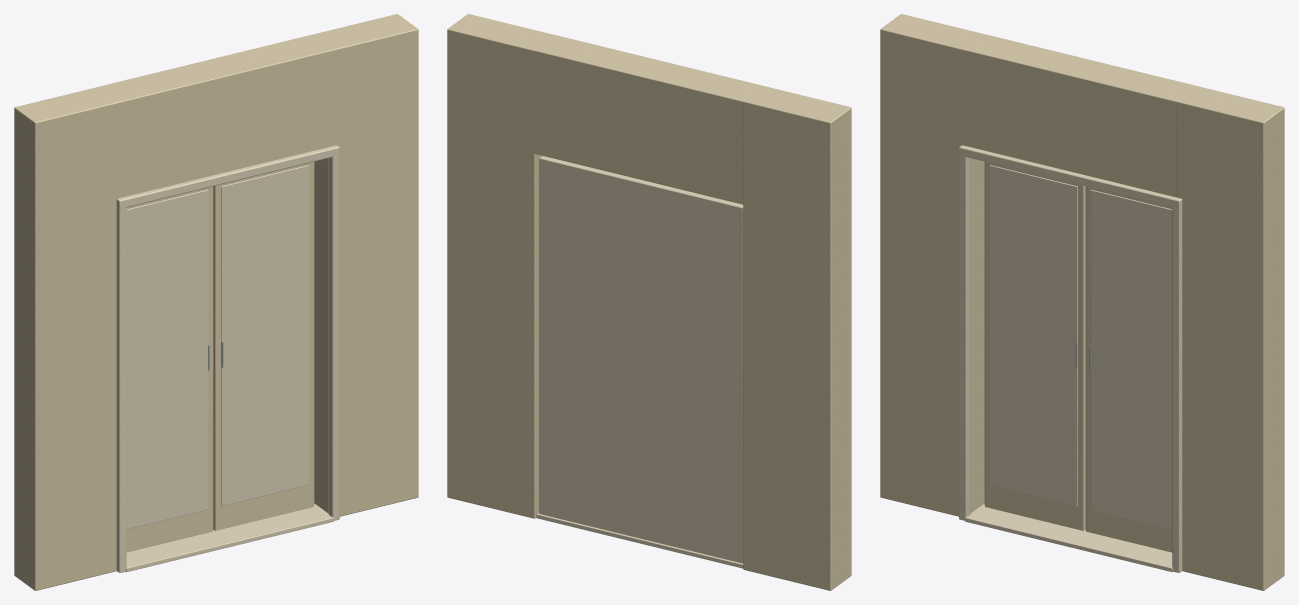
File: 25_recessed_door_wall.glb
The picture shows the model from 3 angles, left to right: view 1: azimuth 30°, elevation 25°; view 2: azimuth 150°, elevation 25°; view 3: azimuth 330°, elevation 25°; orthographic projection.
Parts seen in each view (by area): view 1: 25_recessed_door_wall__wall_pier, 25_recessed_door_wall__wall_pier.001, 25_recessed_door_wall__subtle_leaf_inset.001, 25_recessed_door_wall__subtle_leaf_inset, 25_recessed_door_wall__wall_header, 25_recessed_door_wall__flush_door_leaf.001, 25_recessed_door_wall__door_jamb.001, 25_recessed_door_wall__threshold, 25_recessed_door_wall__door_jamb, 25_recessed_door_wall__flush_door_leaf, 25_recessed_door_wall__door_head, 25_recessed_door_wall__closed_door_back; view 2: 25_recessed_door_wall__closed_door_back, 25_recessed_door_wall__wall_pier, 25_recessed_door_wall__wall_pier.001, 25_recessed_door_wall__wall_header, 25_recessed_door_wall__threshold; view 3: 25_recessed_door_wall__wall_pier.001, 25_recessed_door_wall__wall_pier, 25_recessed_door_wall__subtle_leaf_inset, 25_recessed_door_wall__subtle_leaf_inset.001, 25_recessed_door_wall__wall_header, 25_recessed_door_wall__flush_door_leaf, 25_recessed_door_wall__door_jamb, 25_recessed_door_wall__threshold, 25_recessed_door_wall__door_jamb.001, 25_recessed_door_wall__flush_door_leaf.001, 25_recessed_door_wall__door_head, 25_recessed_door_wall__closed_door_back.
Part boxes in pixels (x1,y1,x2,y2): 25_recessed_door_wall__wall_pier: [14, 86, 122, 590]; 25_recessed_door_wall__wall_pier.001: [311, 14, 418, 516]; 25_recessed_door_wall__subtle_leaf_inset.001: [221, 165, 309, 506]; 25_recessed_door_wall__subtle_leaf_inset: [126, 189, 208, 529]; 25_recessed_door_wall__wall_header: [101, 35, 331, 197]; 25_recessed_door_wall__flush_door_leaf.001: [213, 162, 313, 530]; 25_recessed_door_wall__door_jamb.001: [328, 151, 339, 520]; 25_recessed_door_wall__threshold: [125, 503, 333, 572]; 25_recessed_door_wall__door_jamb: [116, 203, 126, 572]; 25_recessed_door_wall__flush_door_leaf: [126, 186, 212, 552]; 25_recessed_door_wall__door_head: [116, 145, 339, 208]; 25_recessed_door_wall__closed_door_back: [213, 162, 314, 529]; 25_recessed_door_wall__closed_door_back: [539, 156, 743, 563]; 25_recessed_door_wall__wall_pier: [743, 86, 851, 590]; 25_recessed_door_wall__wall_pier.001: [447, 14, 554, 518]; 25_recessed_door_wall__wall_header: [534, 35, 764, 204]; 25_recessed_door_wall__threshold: [536, 512, 743, 568]; 25_recessed_door_wall__wall_pier.001: [1176, 86, 1284, 590]; 25_recessed_door_wall__wall_pier: [880, 14, 987, 516]; 25_recessed_door_wall__subtle_leaf_inset: [989, 165, 1077, 506]; 25_recessed_door_wall__subtle_leaf_inset.001: [1090, 189, 1172, 529]; 25_recessed_door_wall__wall_header: [967, 35, 1197, 197]; 25_recessed_door_wall__flush_door_leaf: [985, 162, 1085, 530]; 25_recessed_door_wall__door_jamb: [959, 155, 970, 520]; 25_recessed_door_wall__threshold: [965, 503, 1173, 572]; 25_recessed_door_wall__door_jamb.001: [1172, 203, 1182, 572]; 25_recessed_door_wall__flush_door_leaf.001: [1086, 186, 1172, 552]; 25_recessed_door_wall__door_head: [959, 145, 1182, 208]; 25_recessed_door_wall__closed_door_back: [984, 162, 1085, 529].
Bounding box in the file's own units: 2.4 × 2.8 × 0.265.
3 materials, 3 textured.
